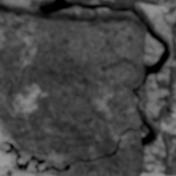brick: (0, 11, 145, 167), (58, 131, 141, 175), (158, 23, 175, 174), (139, 85, 145, 108), (28, 160, 35, 170), (47, 170, 56, 174)
broken_brick: (110, 0, 175, 6)
crack: (2, 0, 173, 175)
